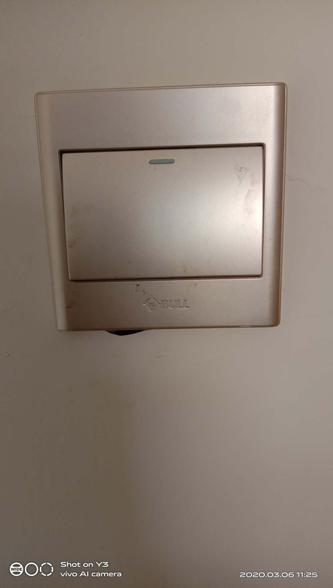switch: (53, 135, 278, 292)
